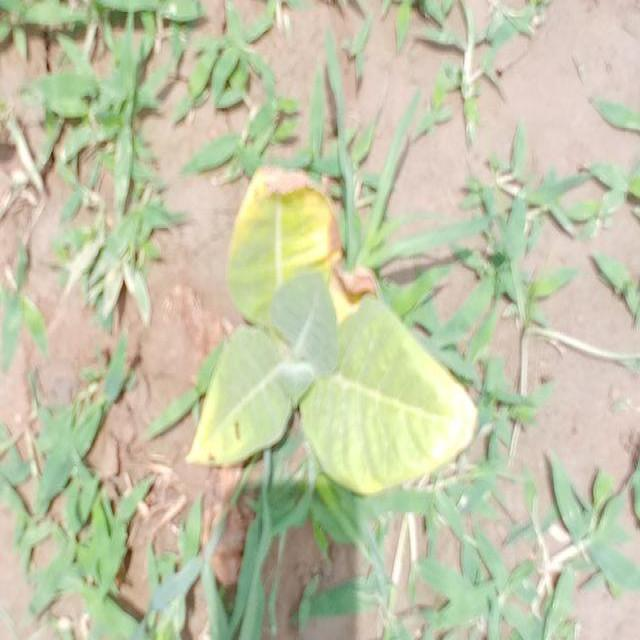crop: (200, 170, 480, 498)
